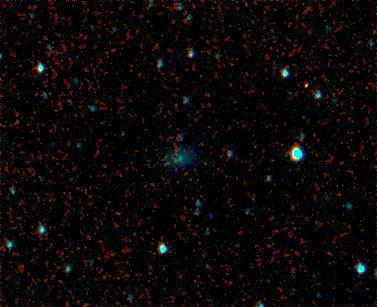star: (157, 153, 187, 183)
